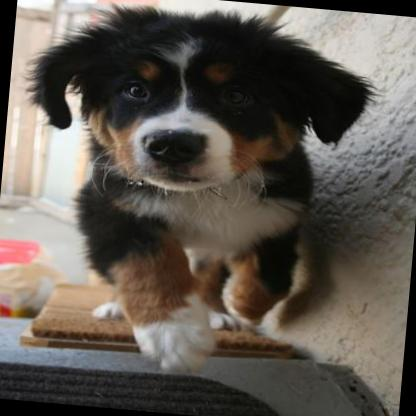Bernese_mountain_dog: (0, 0, 371, 384)
